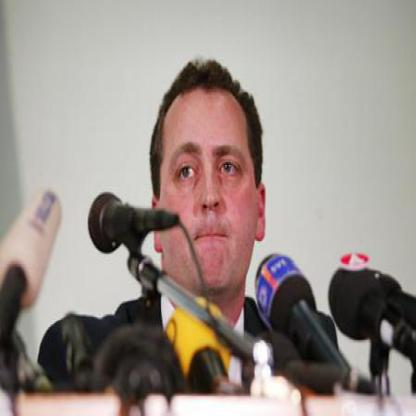face: (157, 71, 261, 302)
